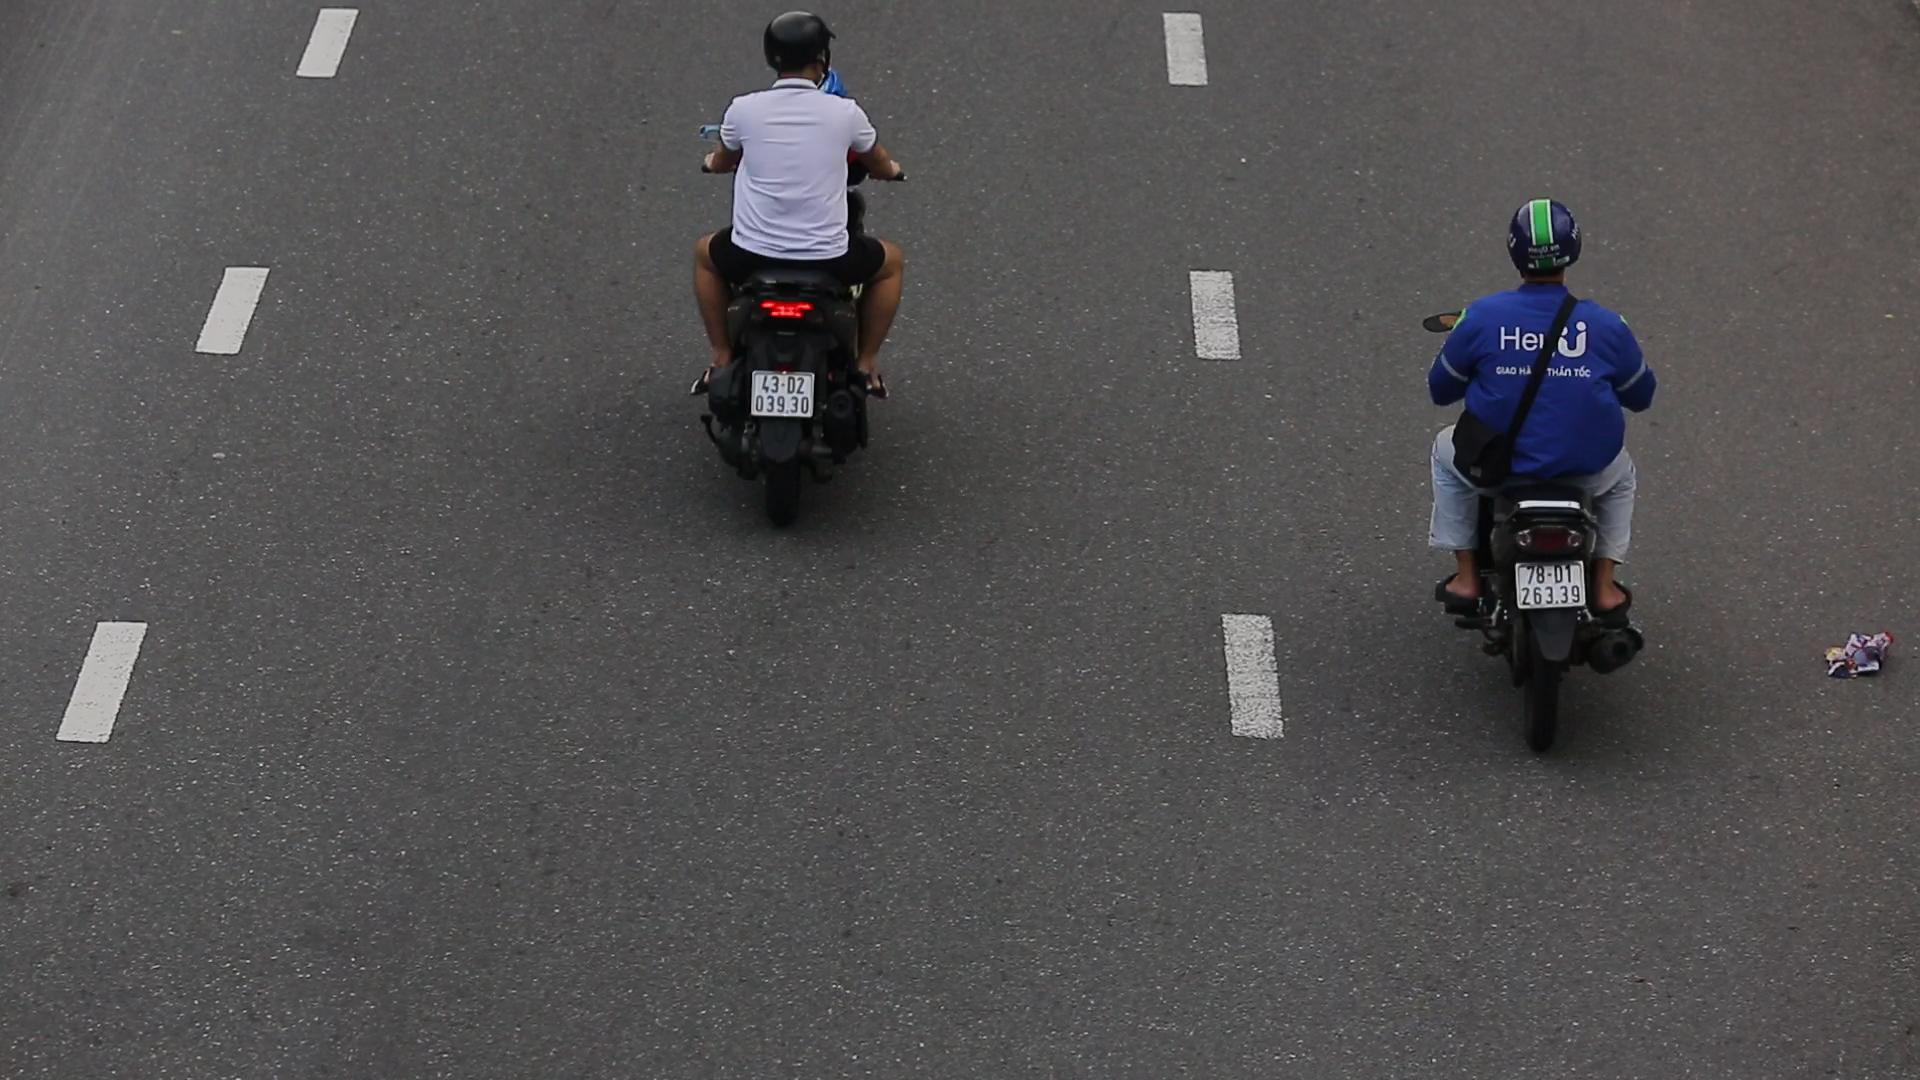motobike: (1408, 158, 1664, 766), (654, 0, 938, 539)
